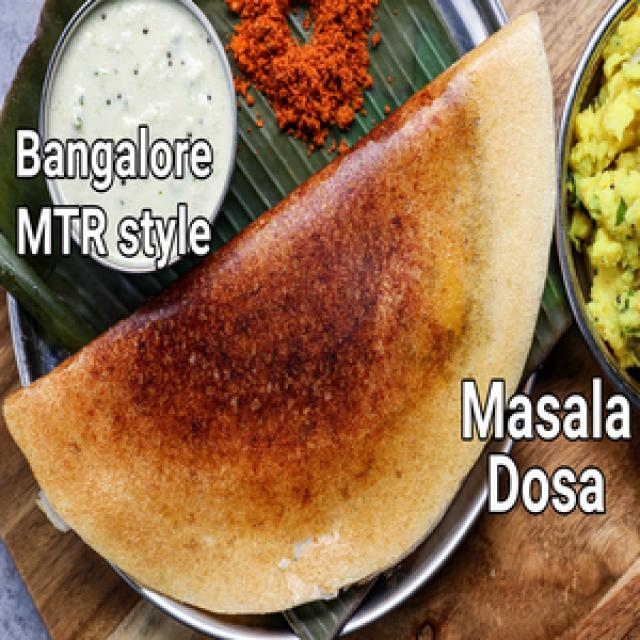dosa: (0, 1, 573, 626)
